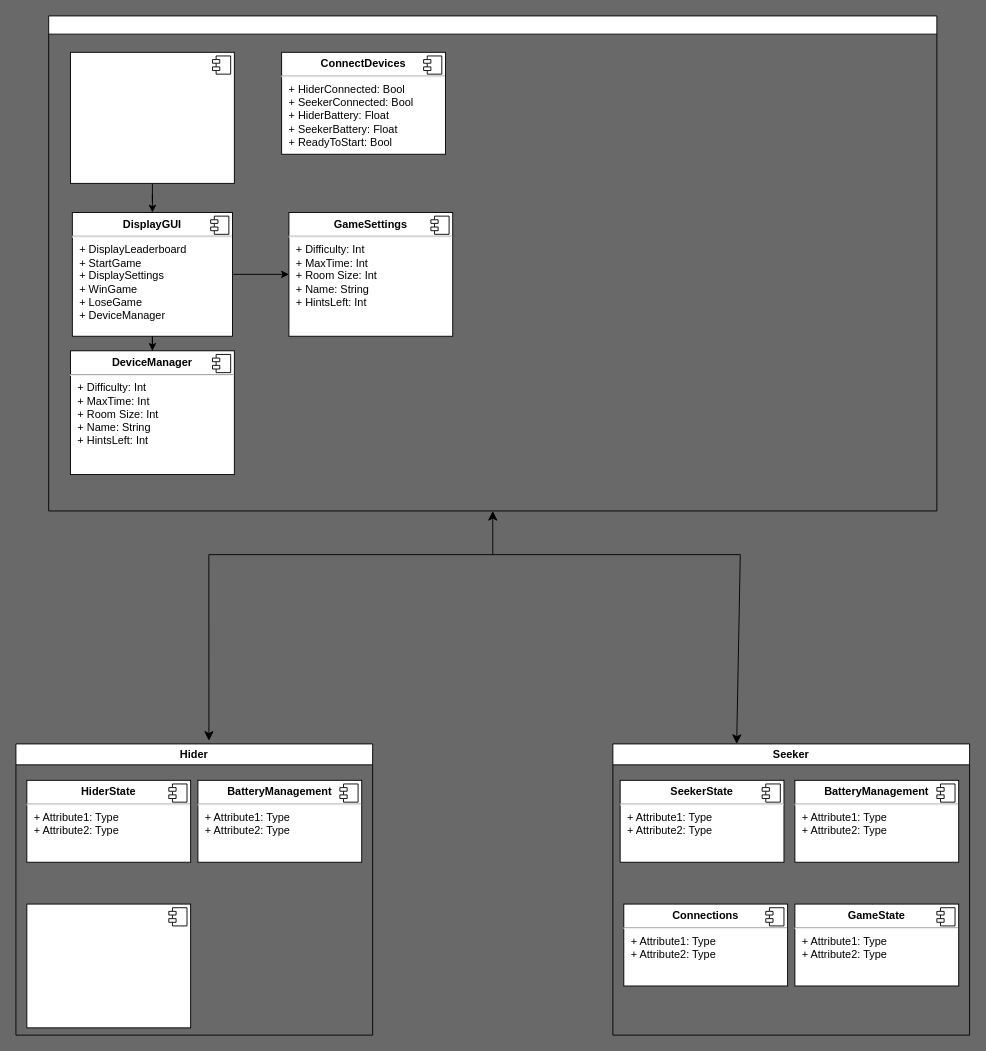
Image size: 986x1051. Some labels were removed from this diagram. The shapes that lost their labels are listed below. From the top down, each one's box as (x1, y1, x2, y2) in pixels, then its label:
(70, 51, 234, 183): GameState + GameIsActive: Bool + Leaderboard: Array + DisplayGUI
(48, 15, 937, 511): Homebase
(26, 903, 191, 1028): Connections + HomeBase: Bool + Seeker: Bool + ConnectToSeeker + ConnectToHome
